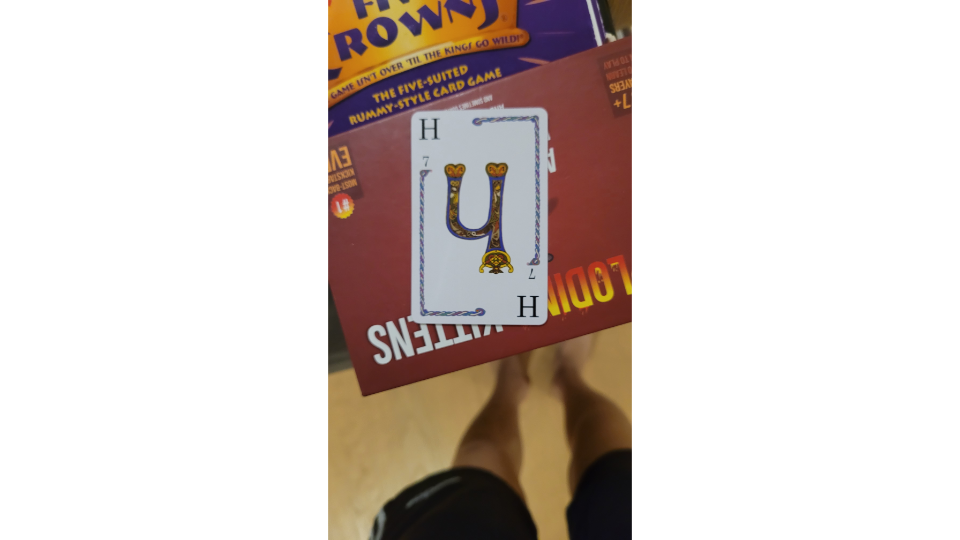H: (404, 102, 554, 333)
